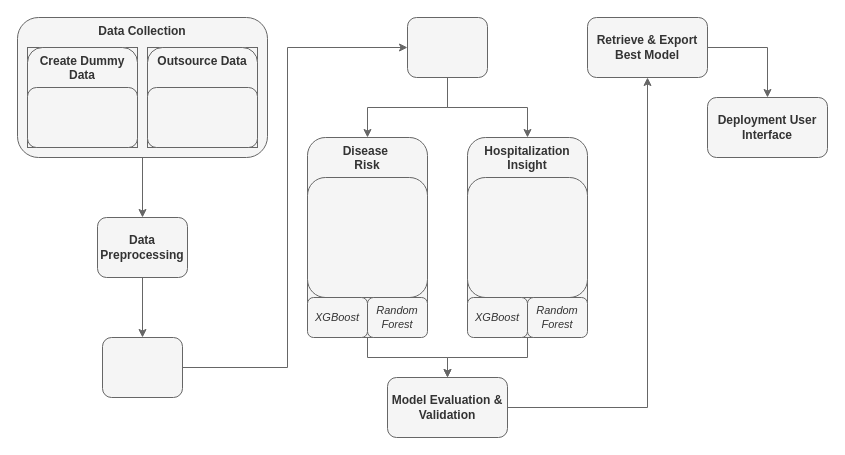
The diagram is 845 pixels wide and 455 high, and some of its shapes have lost their labels. The centre of each missing label's shape, as x and y in pixels:
"- Heart Attack - Stroke - Angina - Depressive Disorder - Arthritis - Skin Cancer" belongs at pixel 367 237.
"- Kaggle - UC Irvine" belongs at pixel 202 117.
"- Surgery Record - Admission Record" belongs at pixel 82 117.
"- Survival Rate - Surgery Risk - Hospitalization Cost - Admission Duration" belongs at pixel 527 237.
"Feature Engineering" belongs at pixel 142 367.
"Model Training" belongs at pixel 447 47.
